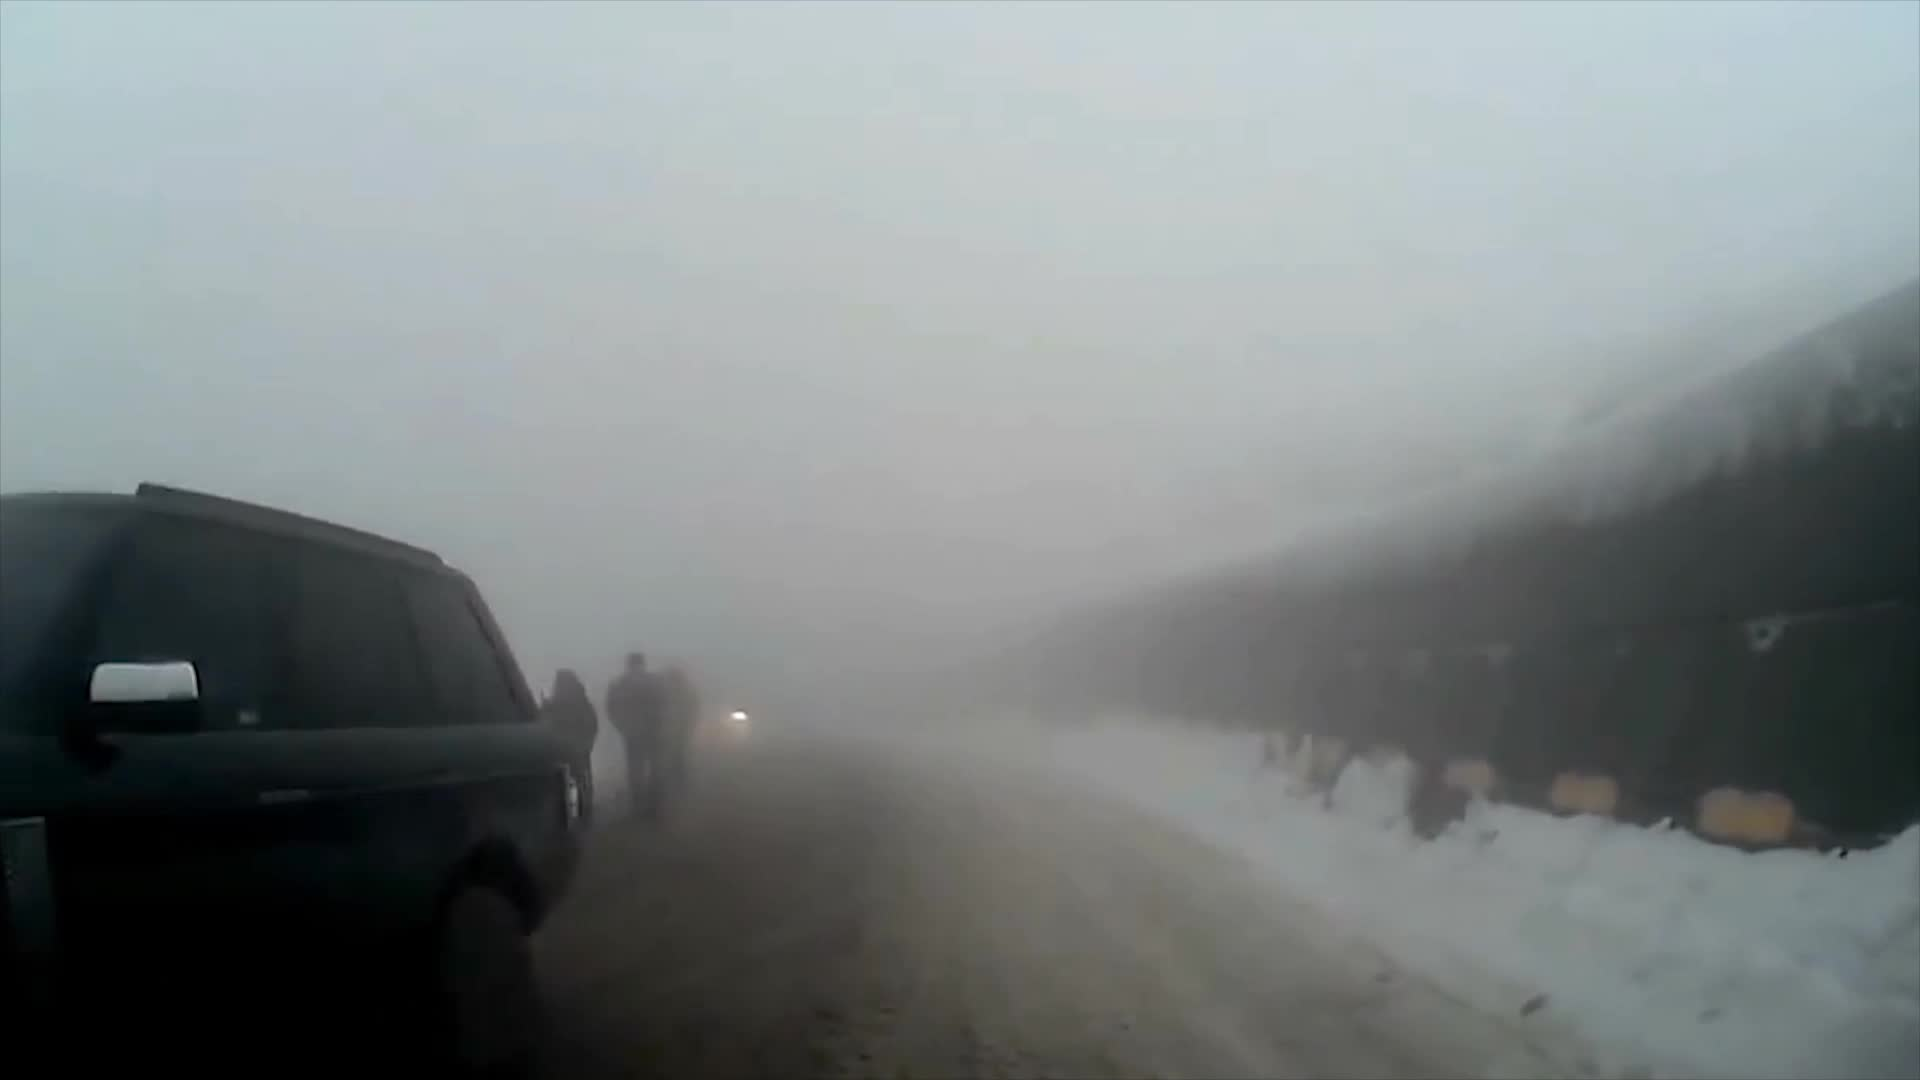pedestrian: (528, 671, 603, 842), (604, 653, 670, 824)
vehicle: (0, 480, 581, 1080)
